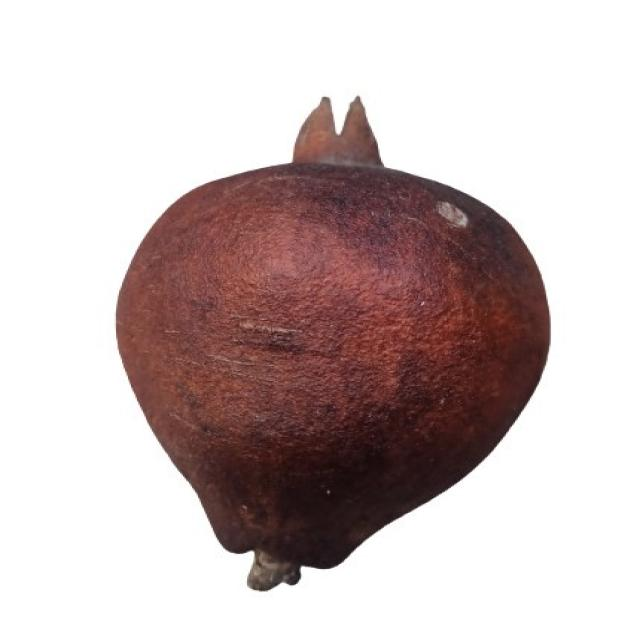Rotten: (109, 91, 557, 594)
